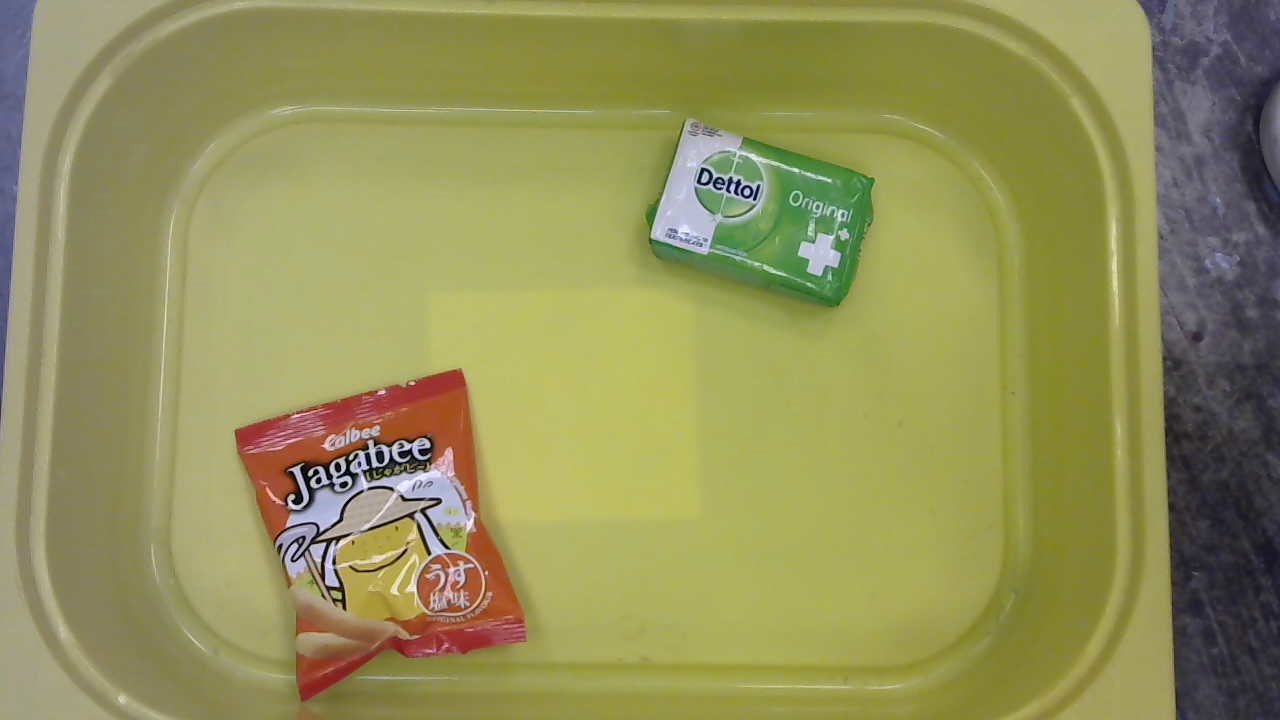Dettol: (638, 112, 879, 317)
JagabeeFarmer: (226, 366, 536, 709)
